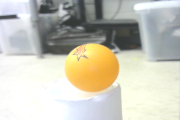PingPongBall: (67, 44, 119, 91)
